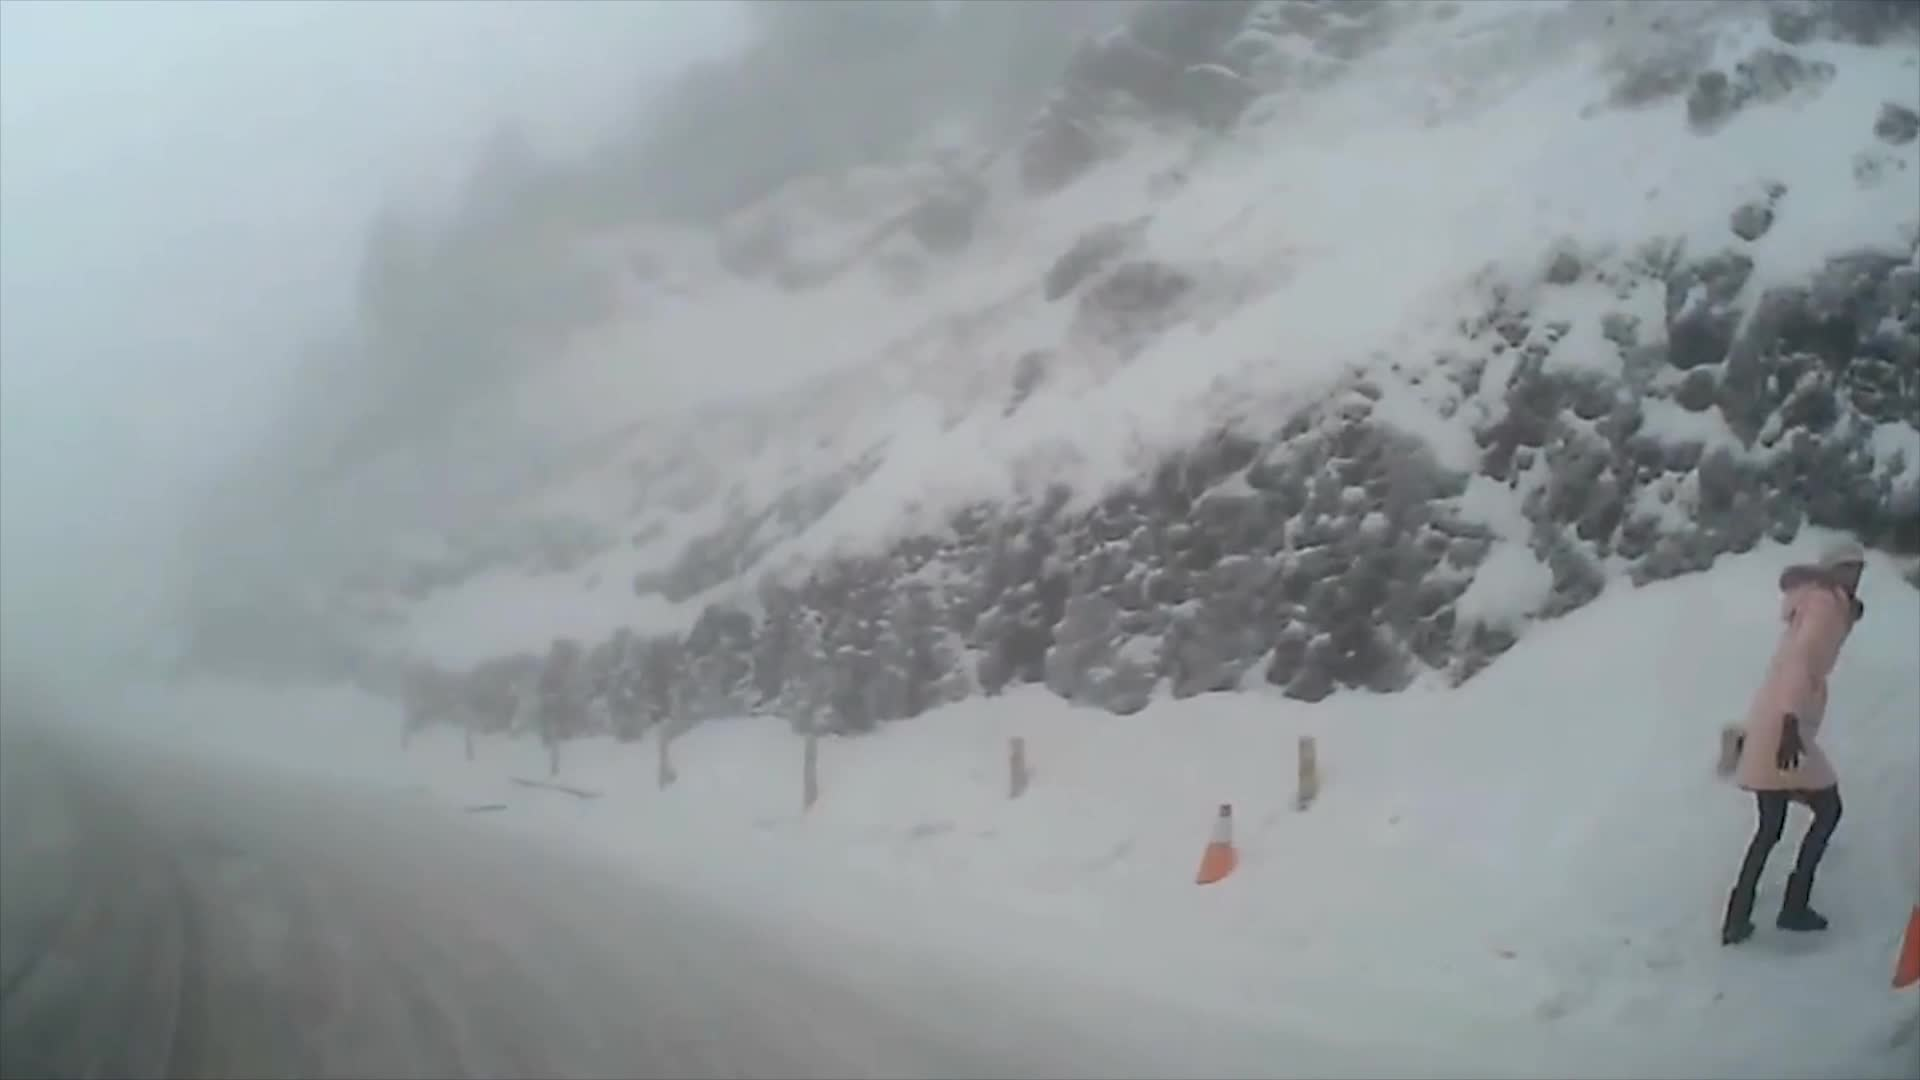pedestrian: (1722, 532, 1872, 942)
